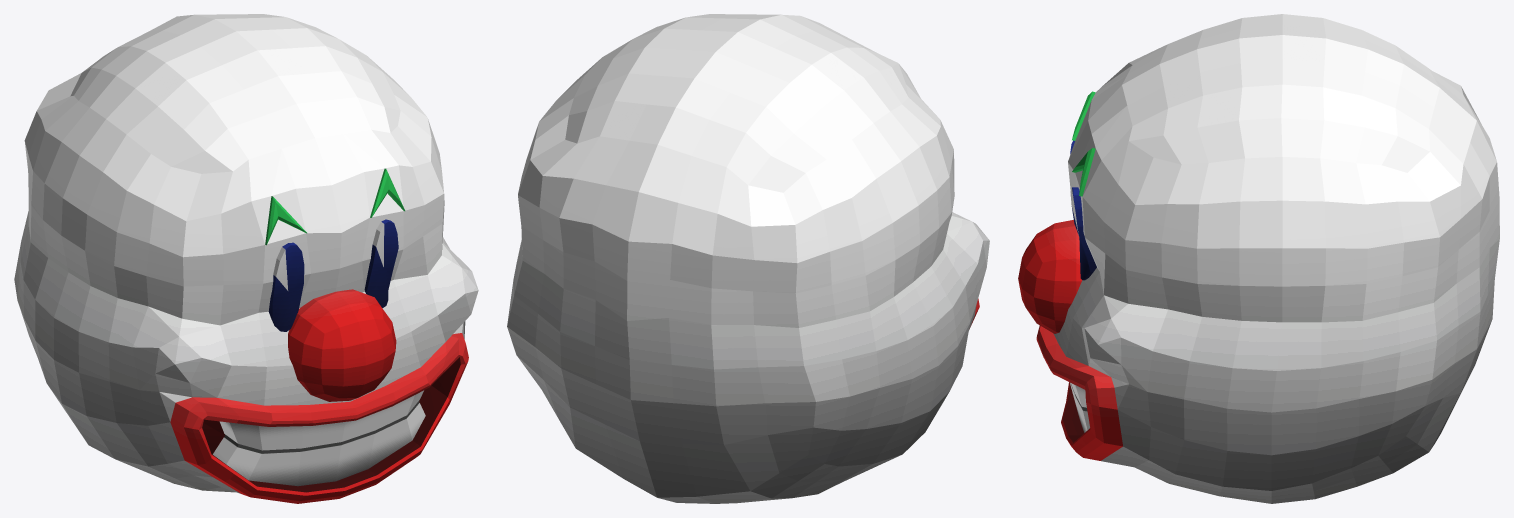
The model's file is Clown_Head_Final (1).fbx.
The picture shows the model from 3 angles, left to right: view 1: azimuth 30°, elevation 25°; view 2: azimuth 150°, elevation 25°; view 3: azimuth 270°, elevation 25°; orthographic projection. The views are drawn at different scales.
Visible parts, largest first — view 1: ClownHead; view 2: ClownHead; view 3: ClownHead.
Boxes of the visible parts, box(x1,y1,x2,y2) form: ClownHead: box(14, 14, 478, 503); ClownHead: box(507, 14, 989, 503); ClownHead: box(1018, 14, 1499, 503).
Bounding box in the file's own units: 52.1 × 57.26 × 56.75.
